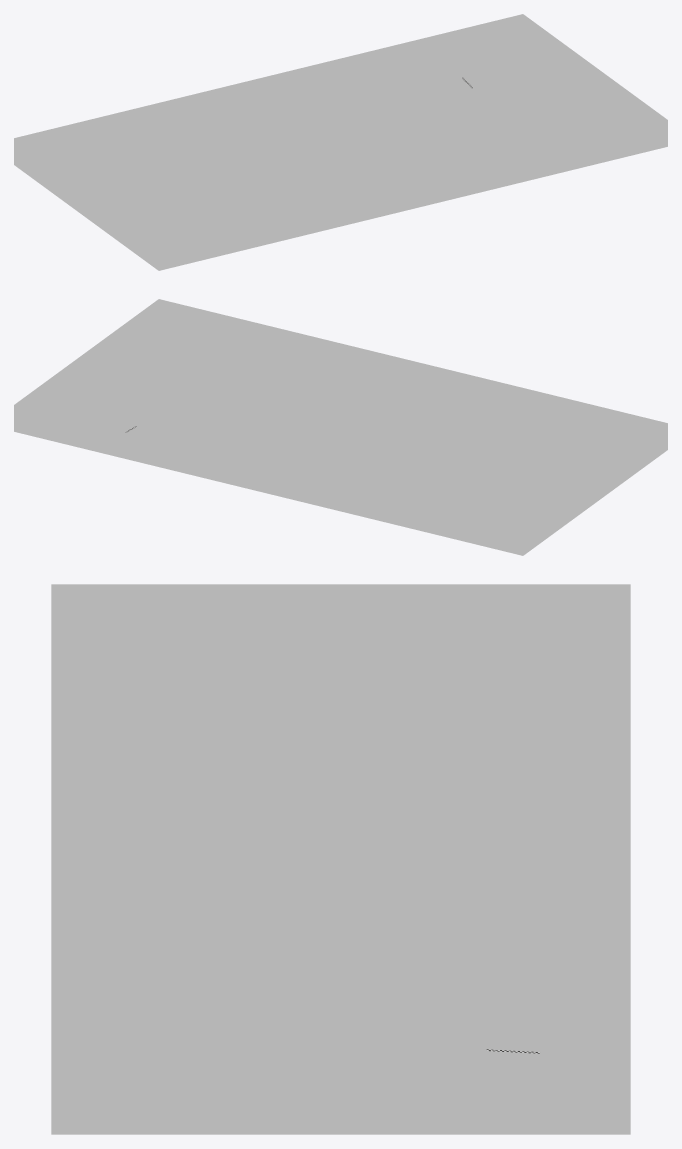
The model's file is arctic_open_cw.dae.
3 views of the same model, one above another, from view 1: azimuth 30°, elevation 25°; view 2: azimuth 150°, elevation 25°; view 3: azimuth 270°, elevation 25° (orthographic). The views are drawn at different scales.
Parts seen in each view (by area): view 1: field, wall, road, ol, il, cl; view 2: field, wall, road, ol, il, cl; view 3: field, wall, road, il, ol, cl.
Boxes of the visible parts, x1,y1,x2,y2 form: field: (42, 41, 639, 243); wall: (14, 14, 667, 270); road: (111, 69, 548, 230); ol: (138, 81, 521, 219); il: (109, 68, 550, 231); cl: (124, 75, 535, 225); field: (42, 326, 639, 528); wall: (14, 299, 667, 555); road: (72, 376, 592, 509); ol: (99, 387, 566, 497); il: (70, 375, 594, 509); cl: (85, 381, 579, 503); field: (51, 637, 630, 1081); wall: (51, 584, 630, 1134); road: (100, 658, 581, 1081); il: (96, 656, 585, 1081); ol: (154, 681, 527, 1081); cl: (127, 669, 554, 1081).
Bounding box in the file's own units: 19.93 × 9.82 × 1.
